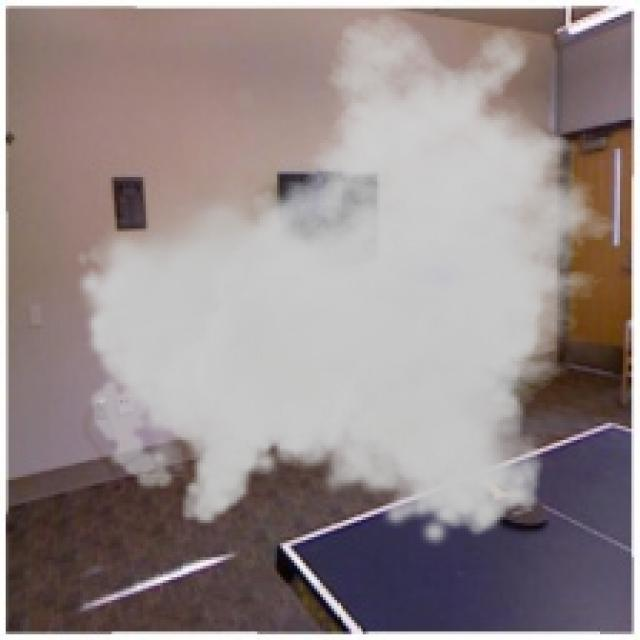smoke: (74, 11, 637, 552)
